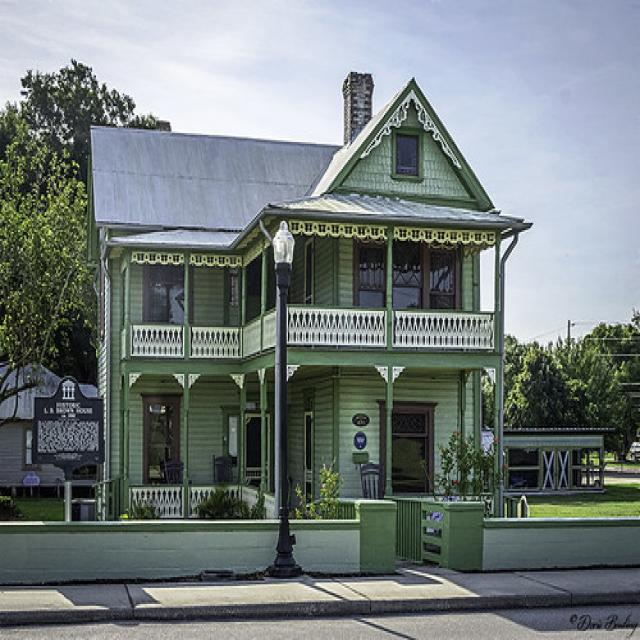Normal_building: (76, 65, 535, 568)
